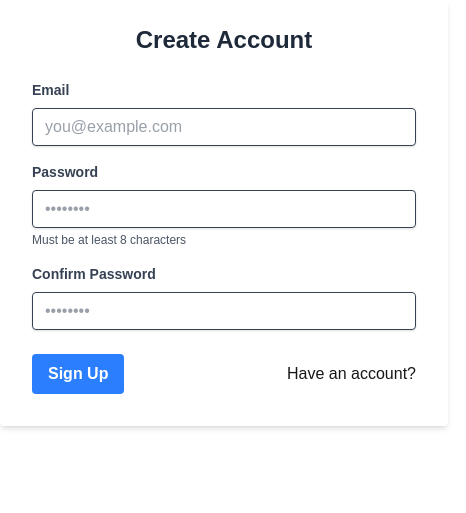
SignUpForm › Form Validation › shows error when password is too short
Type "test@example.com" into the field labelled "Email". click: (224, 127)
box: [32,108,416,146]
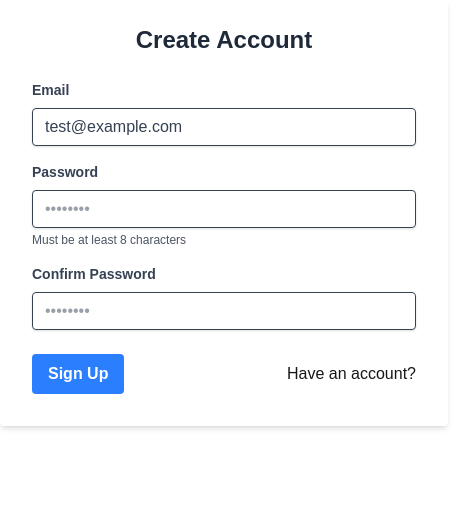
Type "short" into the password field labelled "Password". click: (224, 209)
box: [32,190,416,228]
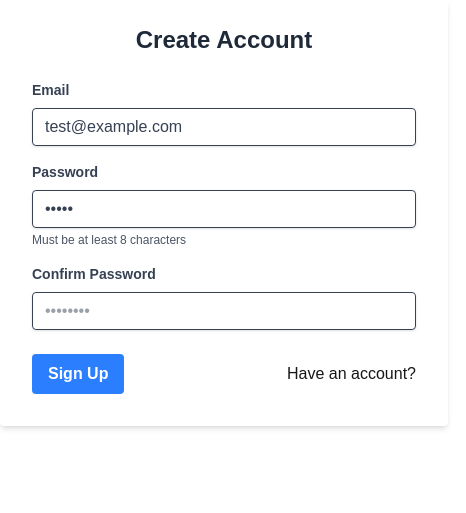
Type "short" into the password field labelled "Confirm Password". click: (224, 311)
box: [32,292,416,330]
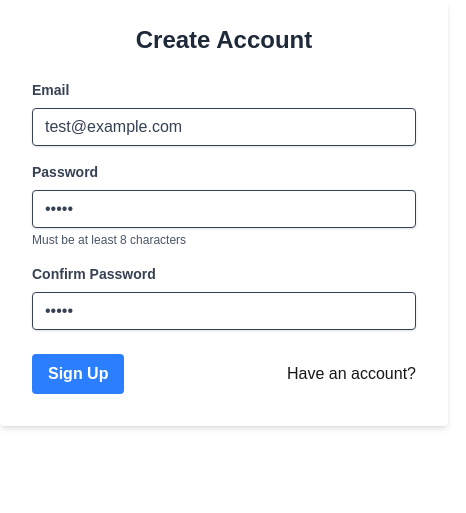
Click the button "Sign Up". click: click(78, 374)
box: [32,354,124,394]
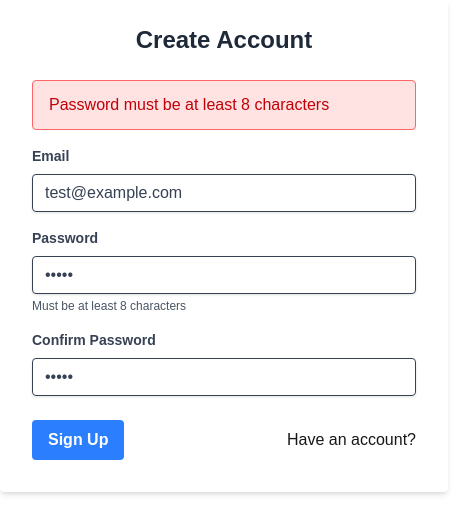
Now the text "Password must be at least 8 characters" is shown, box [32,80,416,130]
